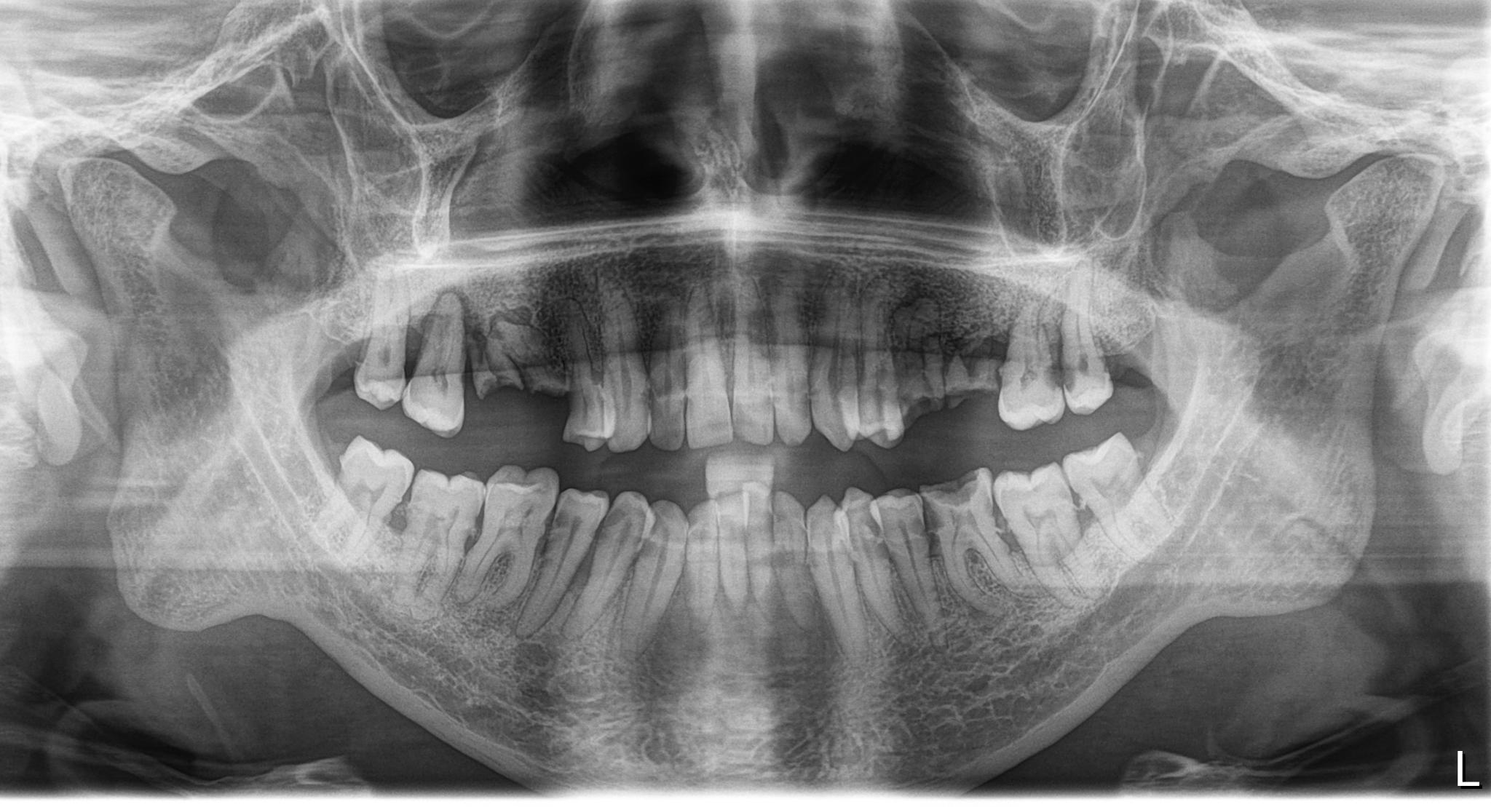Dental Caries: (1061, 495, 1100, 537), (375, 504, 413, 546), (1039, 360, 1084, 389), (994, 524, 1023, 568)
Retained Root: (946, 342, 985, 434), (513, 329, 561, 402), (471, 329, 507, 409), (903, 347, 936, 432)
